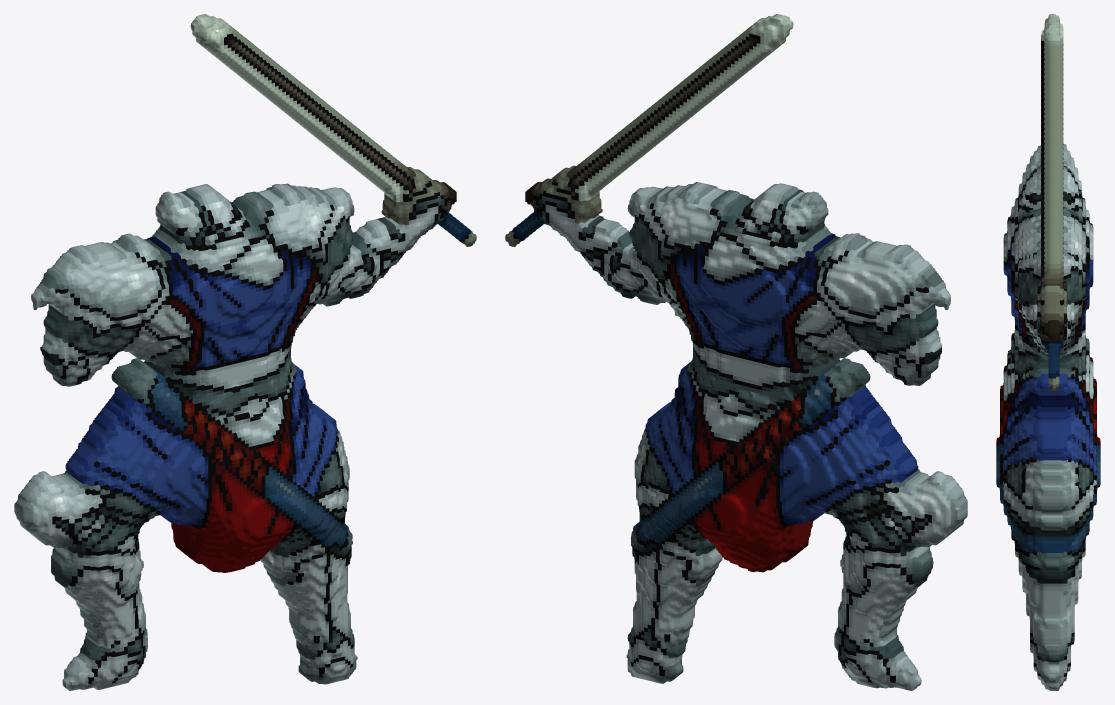
File: Fight_029_1_01.obj
3 renders of one model, left to right at view 1: azimuth 30°, elevation 25°; view 2: azimuth 150°, elevation 25°; view 3: azimuth 270°, elevation 25°, orthographic. The views are drawn at different scales.
Size of the model in its own units: 12.48 by 18.1 by 2.8.
1 material, 1 textured.
